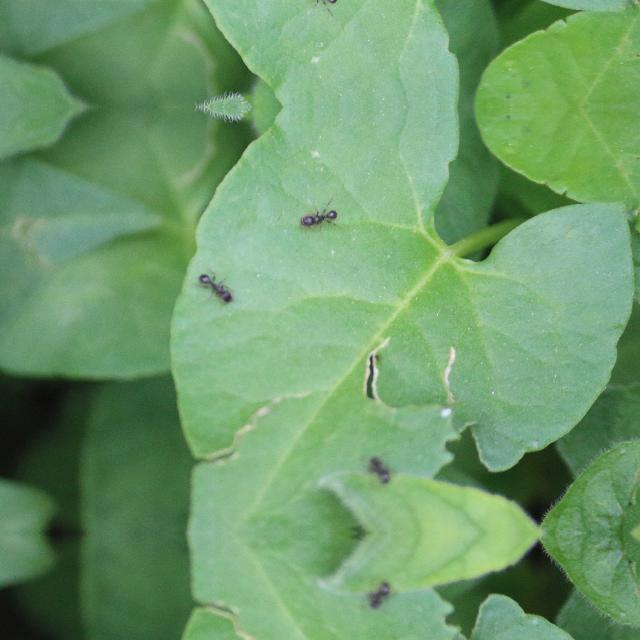Tetramorium: (198, 268, 238, 308), (360, 574, 396, 616), (360, 450, 396, 490), (294, 200, 338, 232), (293, 0, 336, 10)
